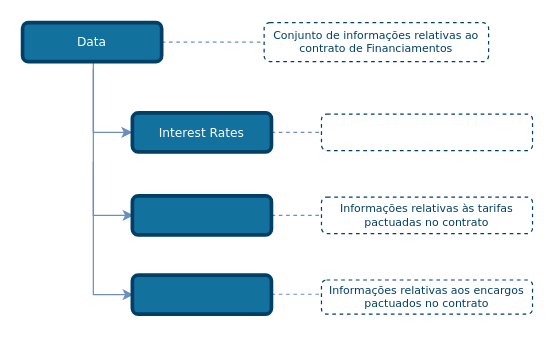
Some shapes in this 554 by 337 pixel diagram are drawn without their labels. The shapes that lost their labels are listed below. From the top down, each one's box as (x1, y1, x2, y2) in pixels, then its label:
(320, 113, 533, 151): Informações relativas à composição das taxas de juros remuneratórias
(130, 193, 273, 236): Contracted Fees
(130, 273, 273, 315): Contracted Finance Charges
